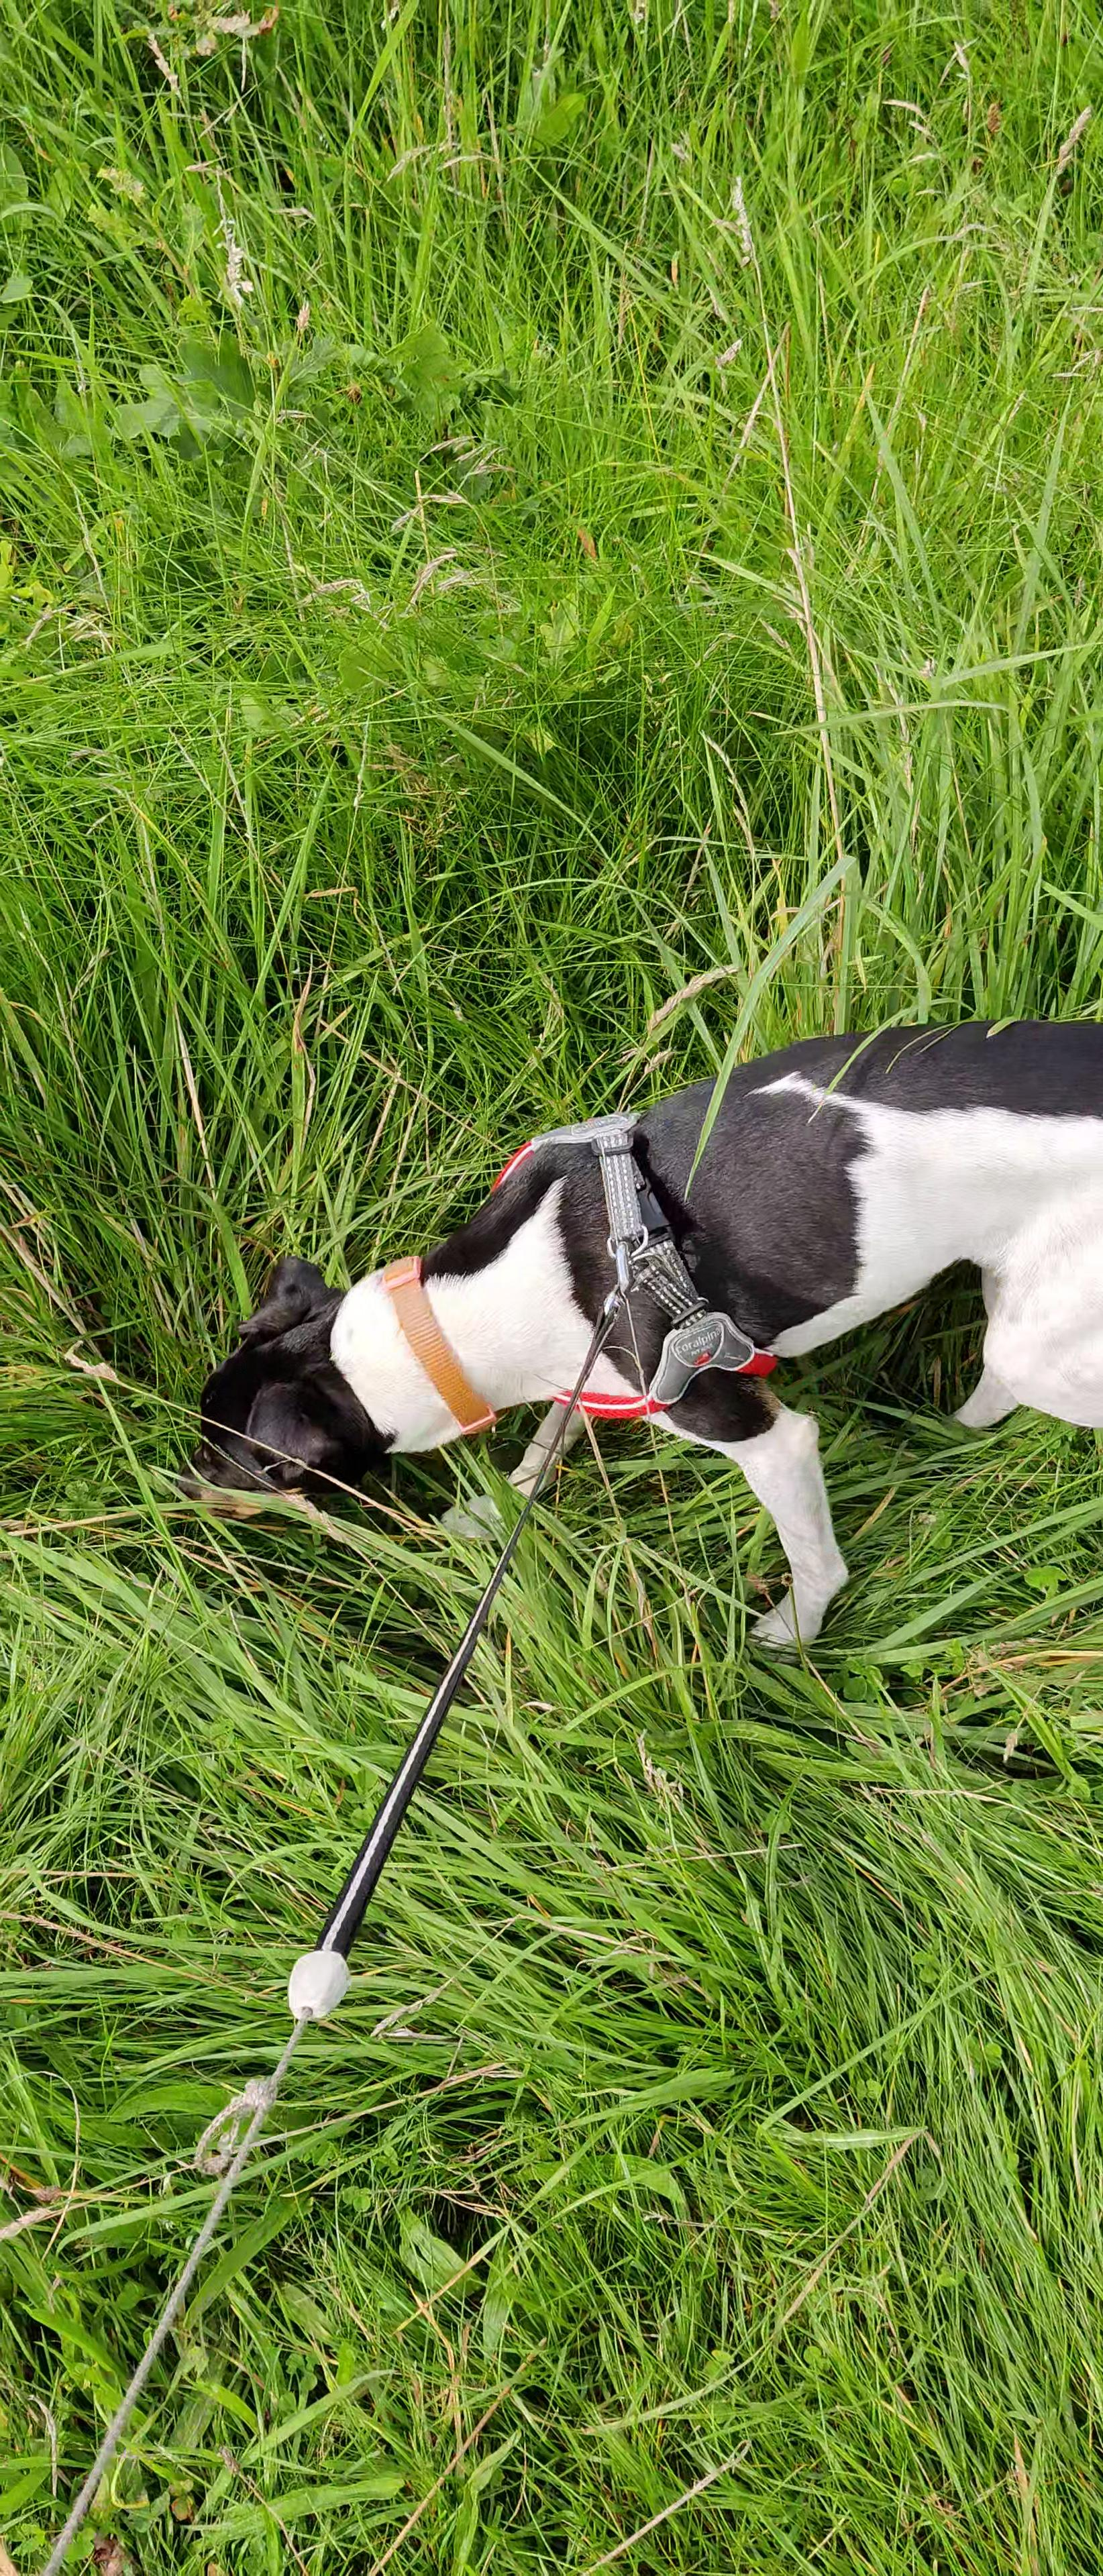Dog: (143, 1010, 1103, 1654)
